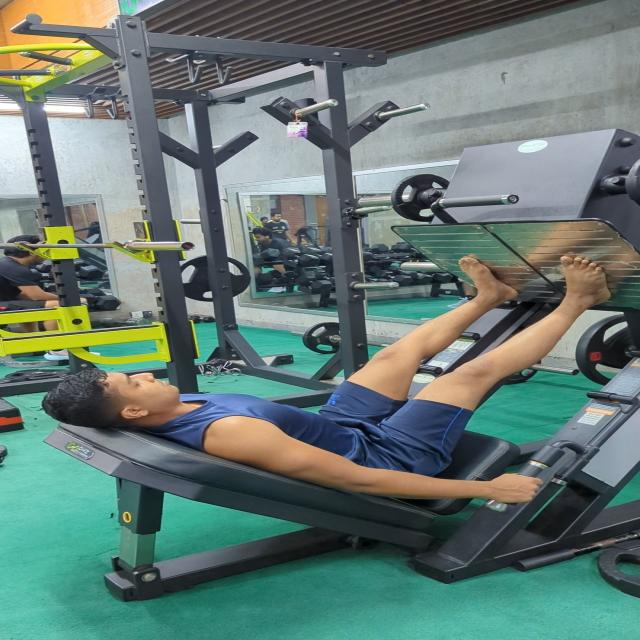Normal_LegPress: (38, 243, 640, 513)
